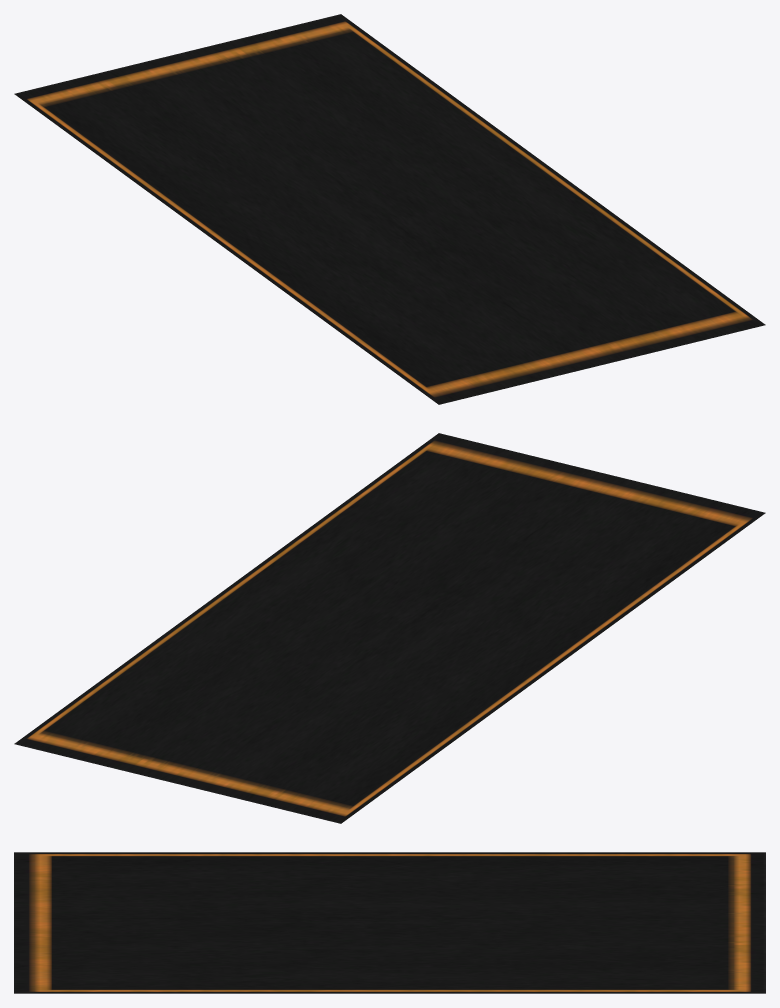
File: BackgroundBlackHalf.gltf
3 renders of one model, top to bottom at view 1: azimuth 30°, elevation 25°; view 2: azimuth 150°, elevation 25°; view 3: azimuth 270°, elevation 25°, orthographic. The views are drawn at different scales.
Visible parts, largest first — view 1: BackgroundBlackHalf; view 2: BackgroundBlackHalf; view 3: BackgroundBlackHalf.
Boxes of the visible parts, x1,y1,x2,y2 form: BackgroundBlackHalf: (14, 14, 765, 404); BackgroundBlackHalf: (14, 433, 765, 823); BackgroundBlackHalf: (14, 852, 765, 993).
Size of the model in its own units: 2 by 2e-07 by 4.5.
